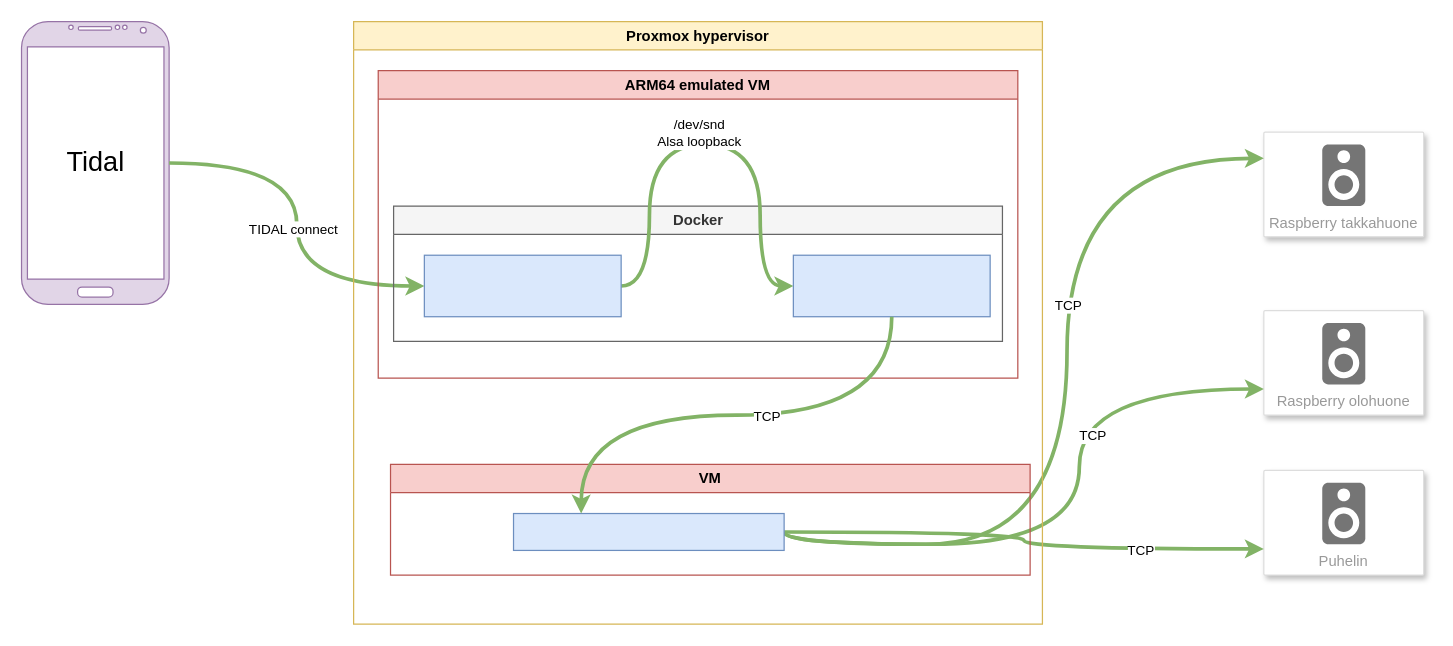
Image size: 1453x646. Some labels were removed from this diagram. The shapes that lost their labels are listed below. From the top down, each one's centre as x and y in pixels, then its label:
At [522,285]: "tidal-connect".
At [891,285]: "snapclient".
At [648,531]: "snapserver".
